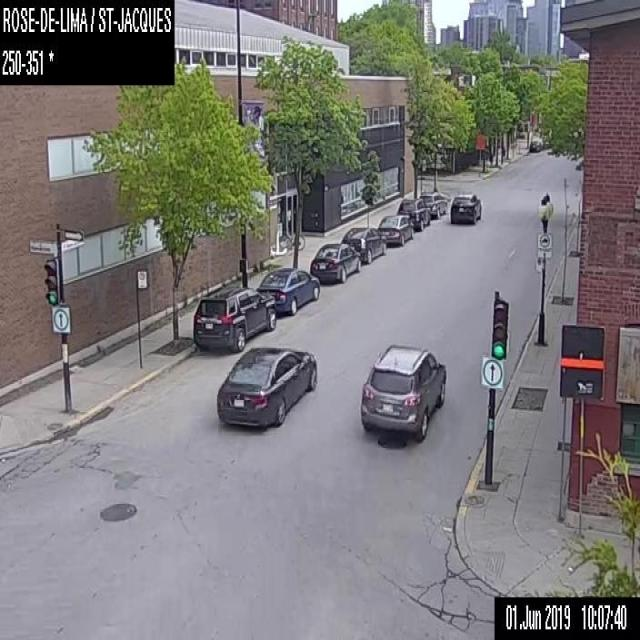construction: (474, 133, 484, 167)
vehicle: (359, 339, 446, 441), (218, 348, 317, 429), (191, 282, 278, 352), (255, 266, 317, 314), (310, 242, 360, 285), (338, 226, 386, 262), (376, 212, 414, 244), (449, 191, 481, 224), (394, 197, 429, 227), (418, 190, 446, 218), (529, 139, 539, 150)
